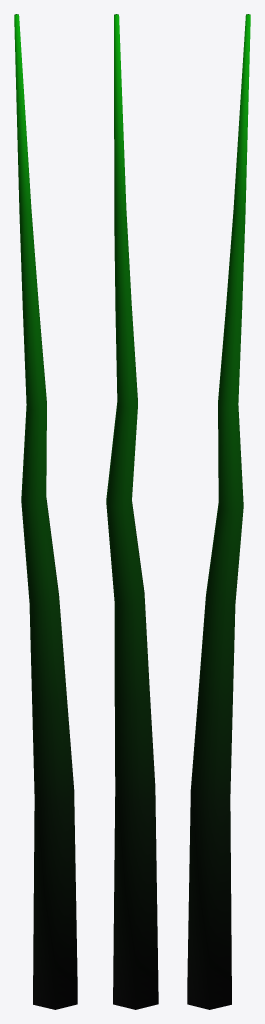
The model's file is small_pine_trunk.obj.
3 renders of one model, left to right at view 1: azimuth 90°, elevation 25°; view 2: azimuth 150°, elevation 25°; view 3: azimuth 270°, elevation 25°, orthographic.
Parts seen in each view (by area): view 1: SmallPineTrunk; view 2: SmallPineTrunk; view 3: SmallPineTrunk.
Part boxes in pixels (left/top/right/bottom): SmallPineTrunk: left=14, top=14, right=77, bottom=1009; SmallPineTrunk: left=106, top=14, right=158, bottom=1009; SmallPineTrunk: left=187, top=14, right=250, bottom=1009.
Size of the model in its own units: 0.68 by 14.28 by 0.8363.
